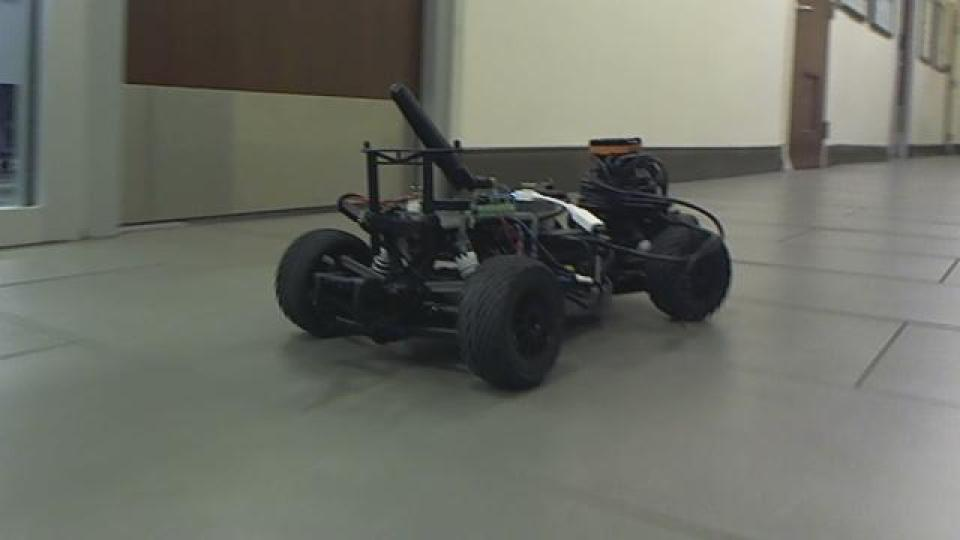car: (271, 79, 735, 393)
